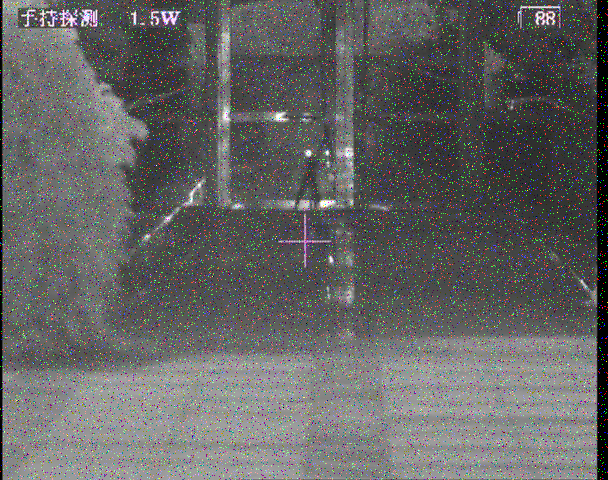my: (304, 149, 313, 158)
